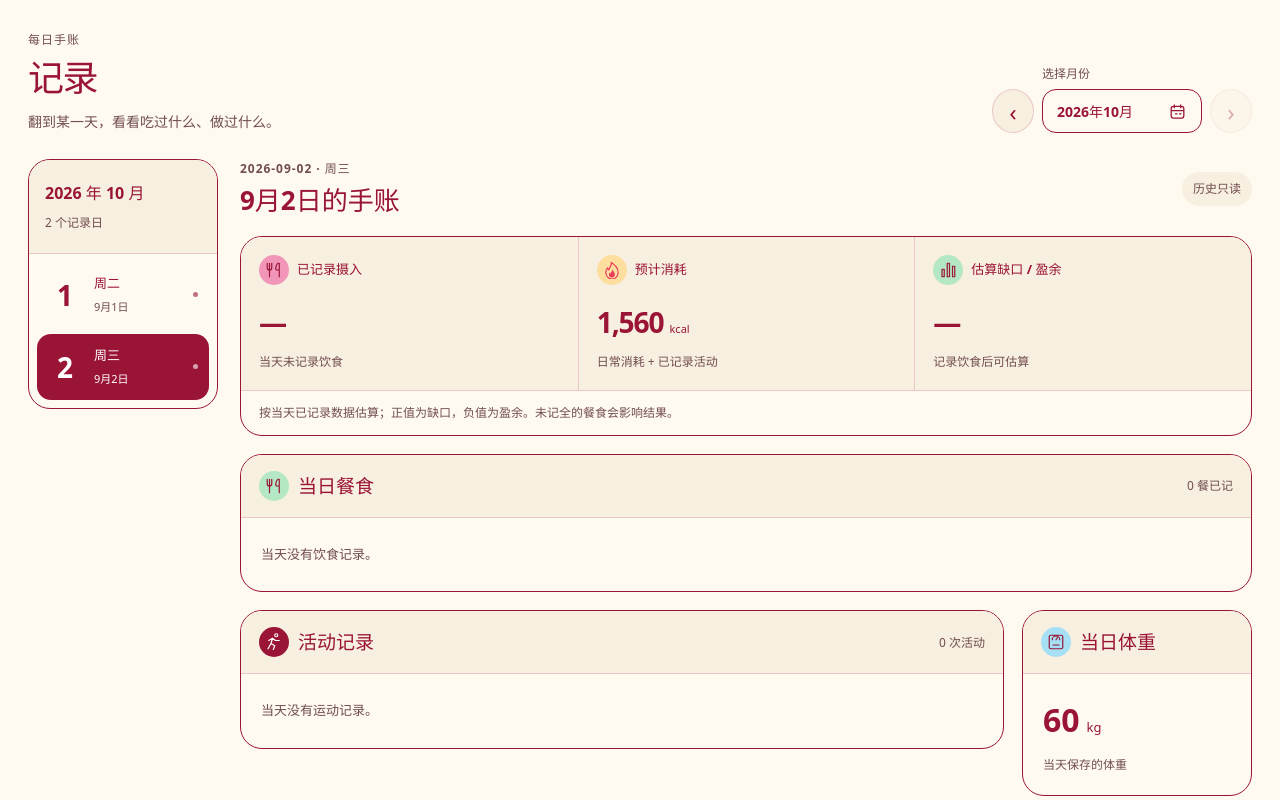
history request ordering › keeps the newest date detail when the earlier date finishes last
Click the button "1 周二 9月1日" at (123, 295), box [37,262,209,328]
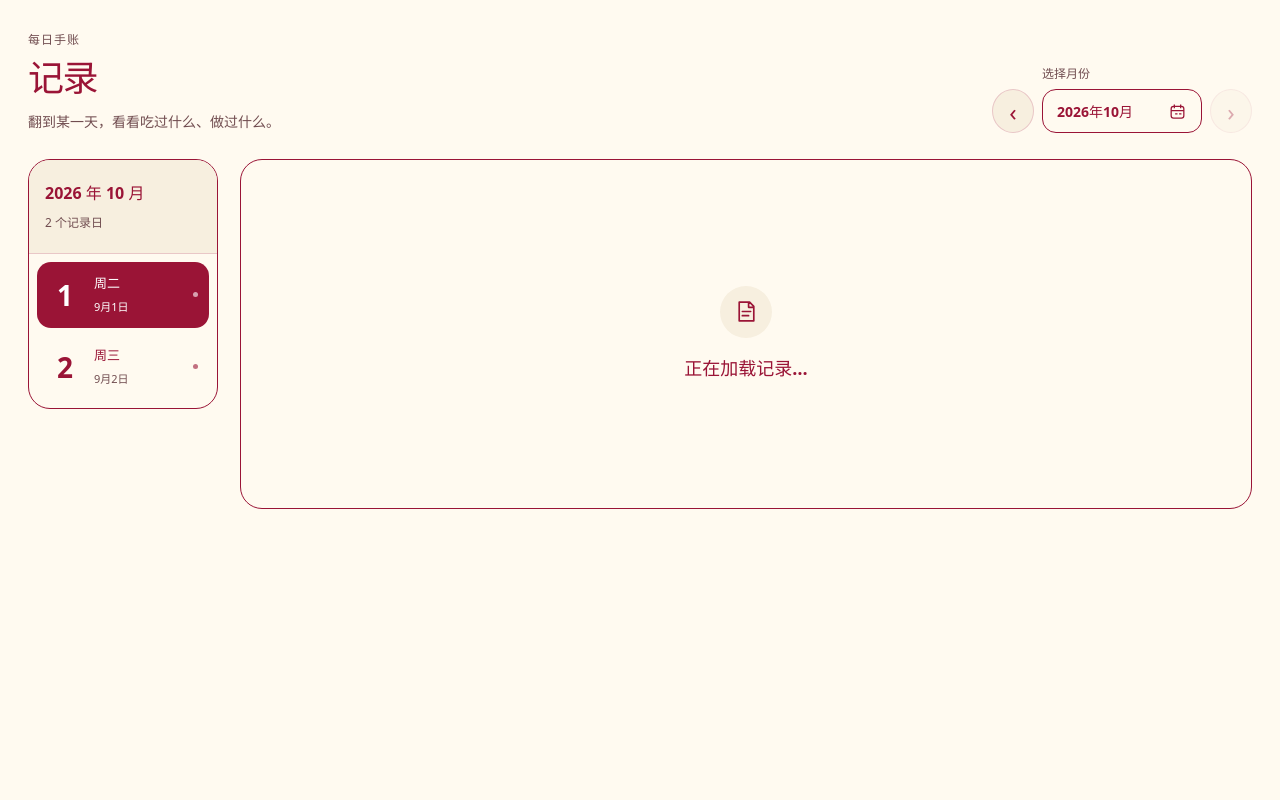
expect the message "正在加载记录…" is shown: met, box [240,159,1252,509]
Click the button "2 周三 9月2日" at (123, 367), box [37,334,209,400]
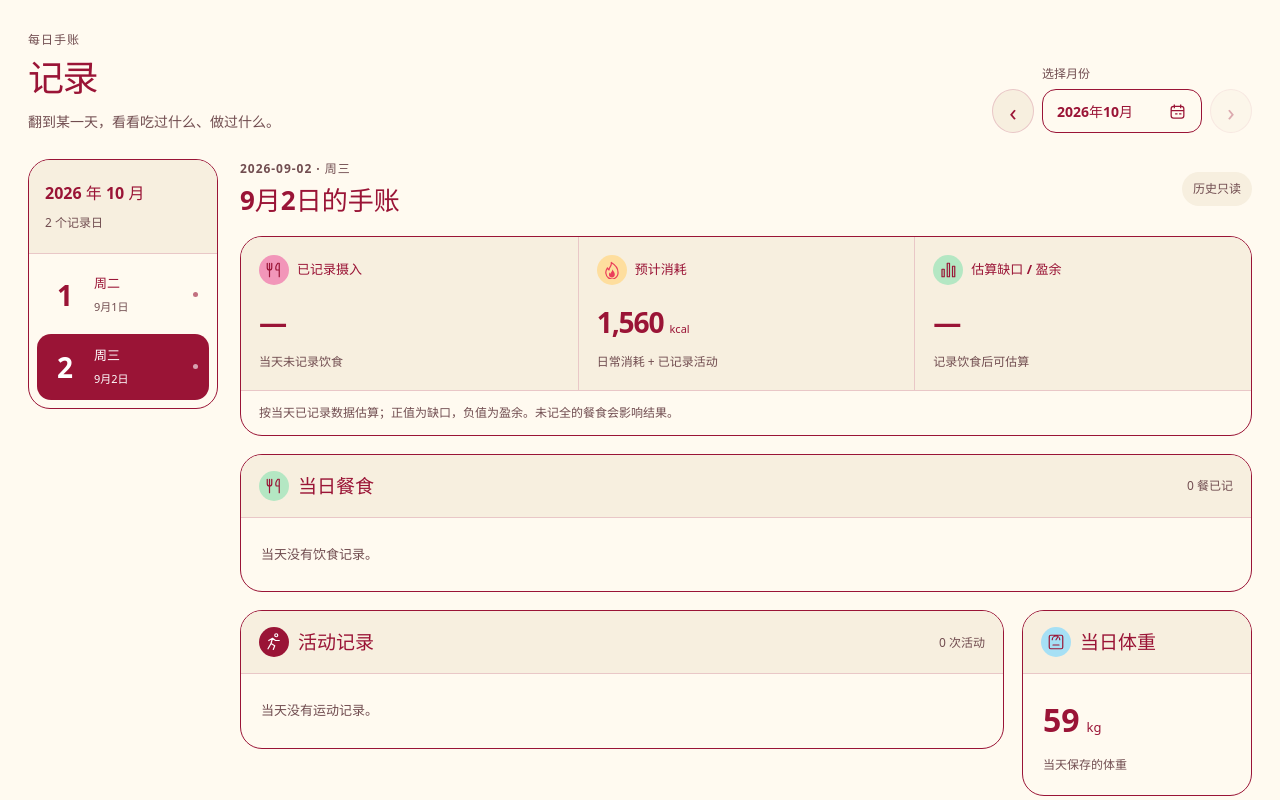
expect the header with class "day-heading" shows "2026-09-02": met, box [240,160,351,177]
expect the element with class "weight-history" shows "59": met, box [1043,698,1080,742]
